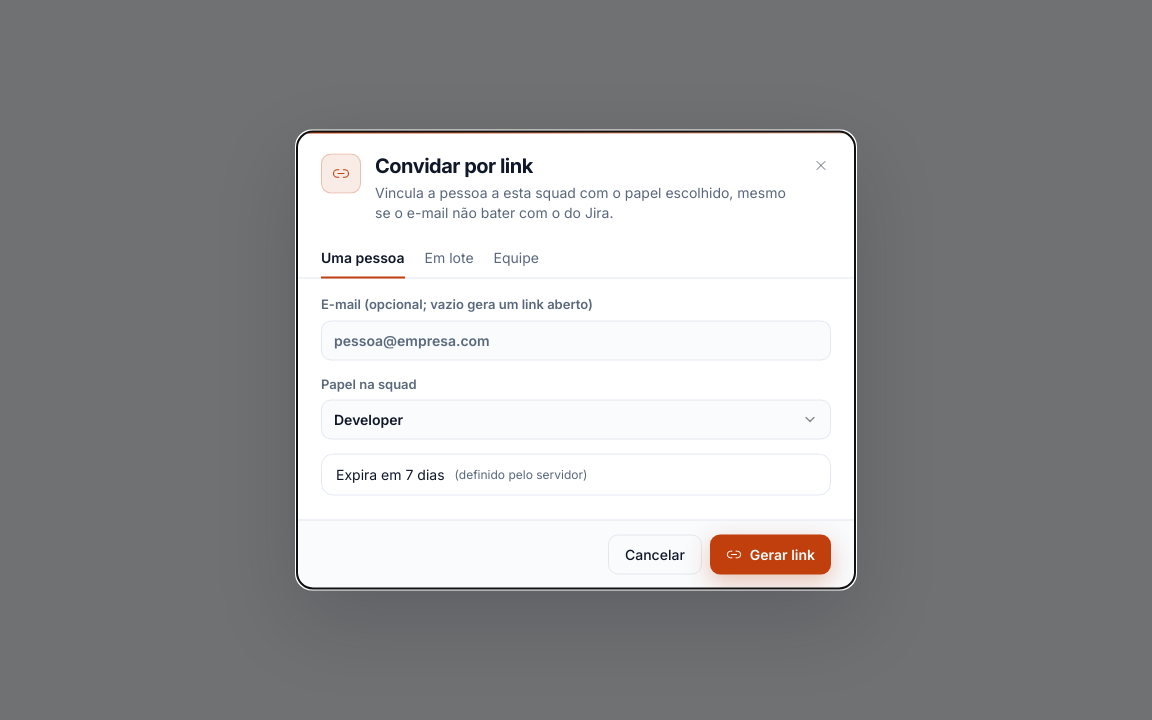
Test case: criar convite de equipe na tela › gera o link com os padrões (Developer, 25 pessoas, 7 dias)
This screenshot has width=1152, height=720.
Click the tab "Equipe": (516, 258) x1=494 y1=238 x2=539 y2=278
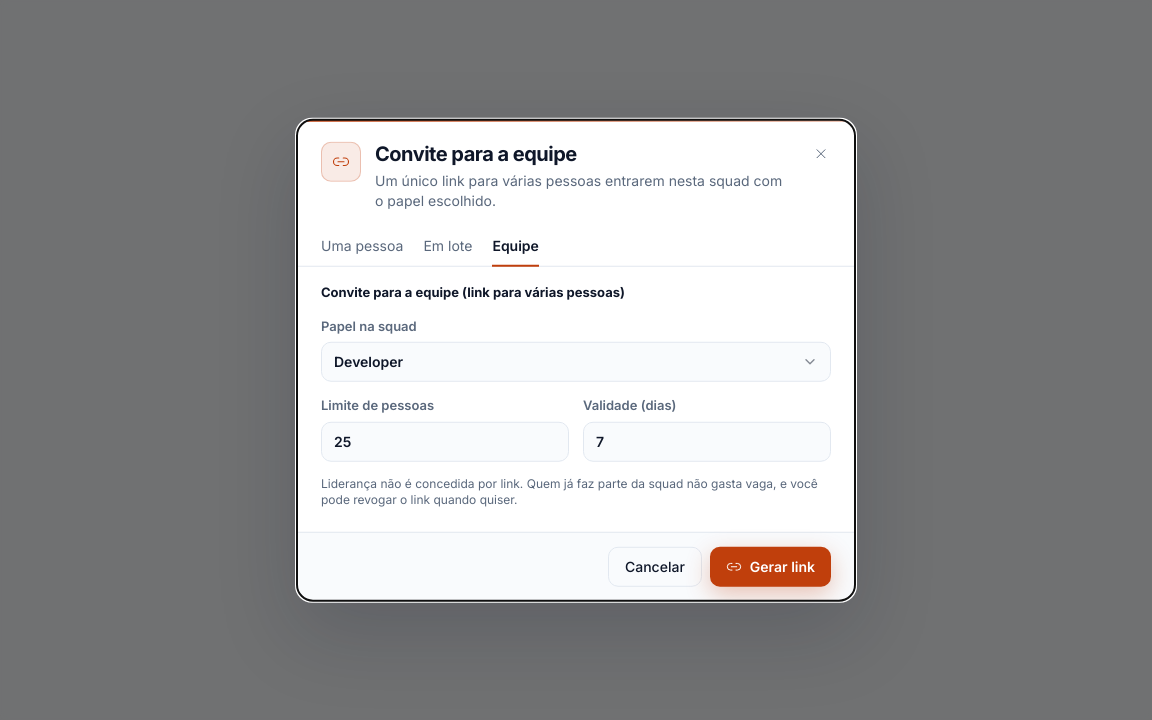
expect the text "Convite para a equipe (link para várias pessoas)" is shown: met, box x1=321 y1=284 x2=625 y2=300
Click the button "Gerar link": (770, 566) x1=710 y1=546 x2=831 y2=586
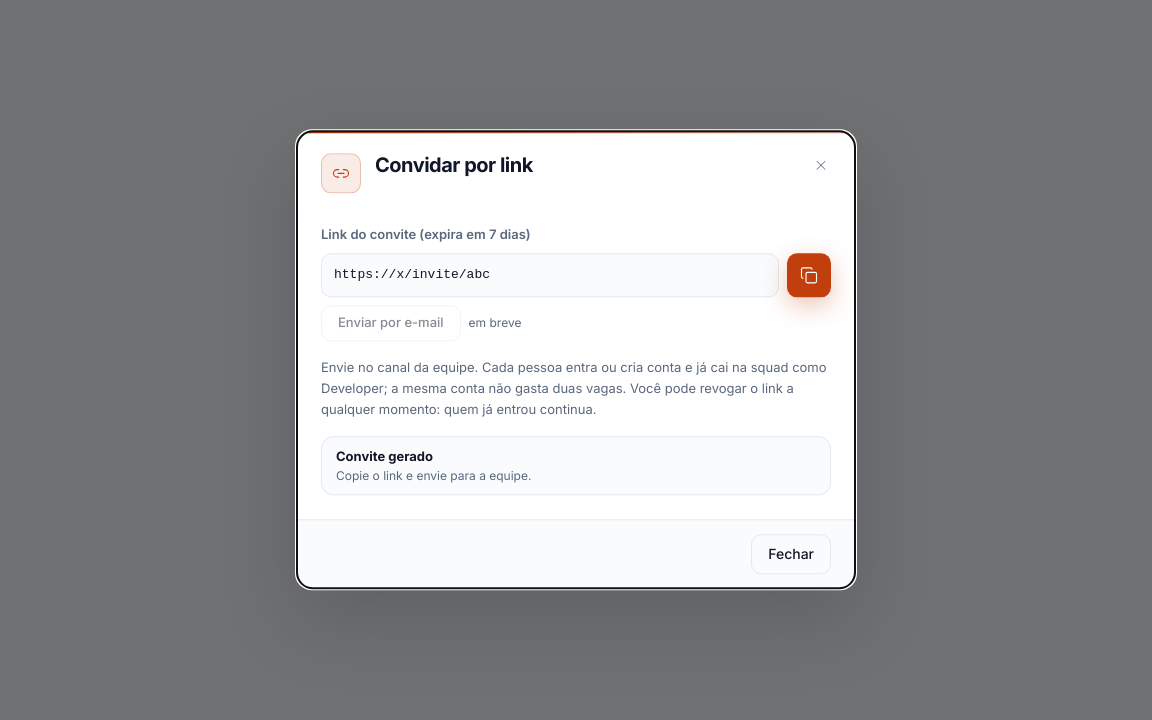
expect the text "Link do convite (expira em 7 dias)" is shown: met, box x1=321 y1=226 x2=531 y2=242
